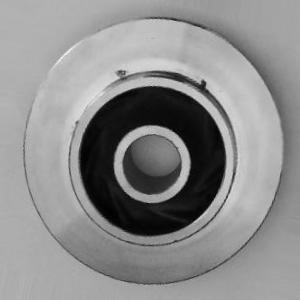defect: (102, 56, 223, 96)
